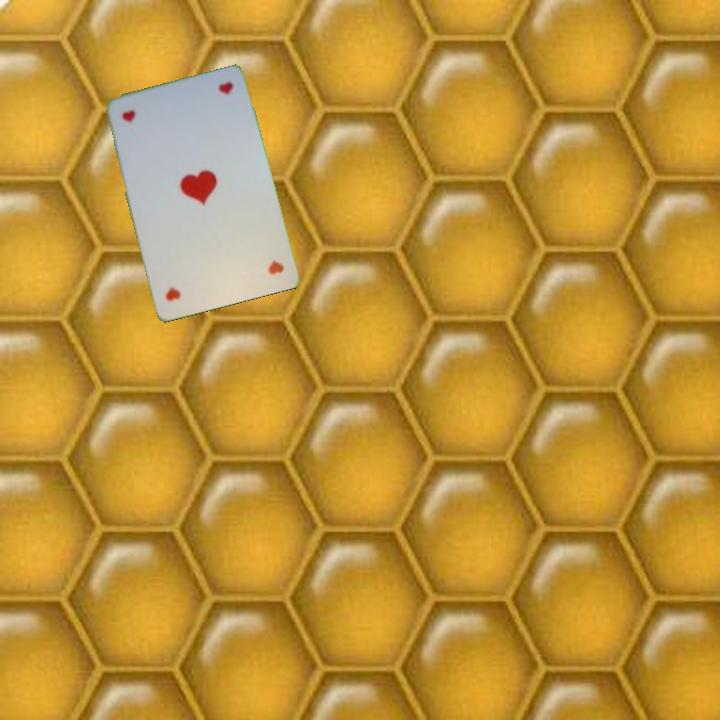h_a.png: (112, 90, 191, 162), (210, 223, 289, 295)
